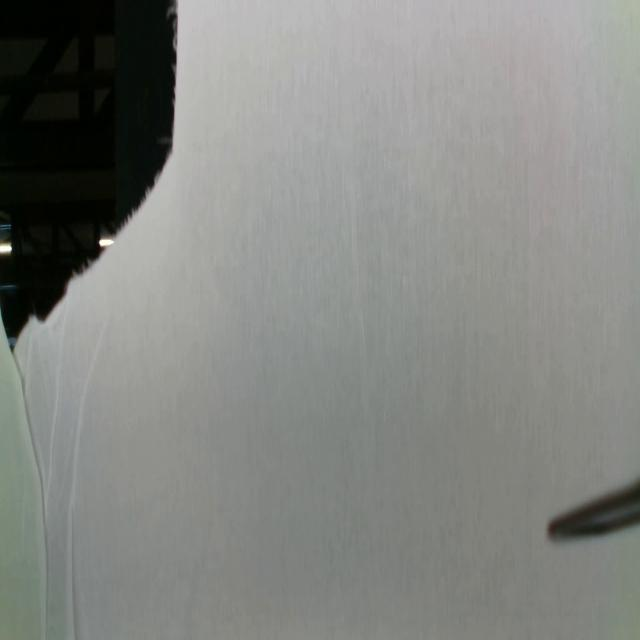crease: (13, 364, 51, 640)
hole: (0, 0, 180, 351)
